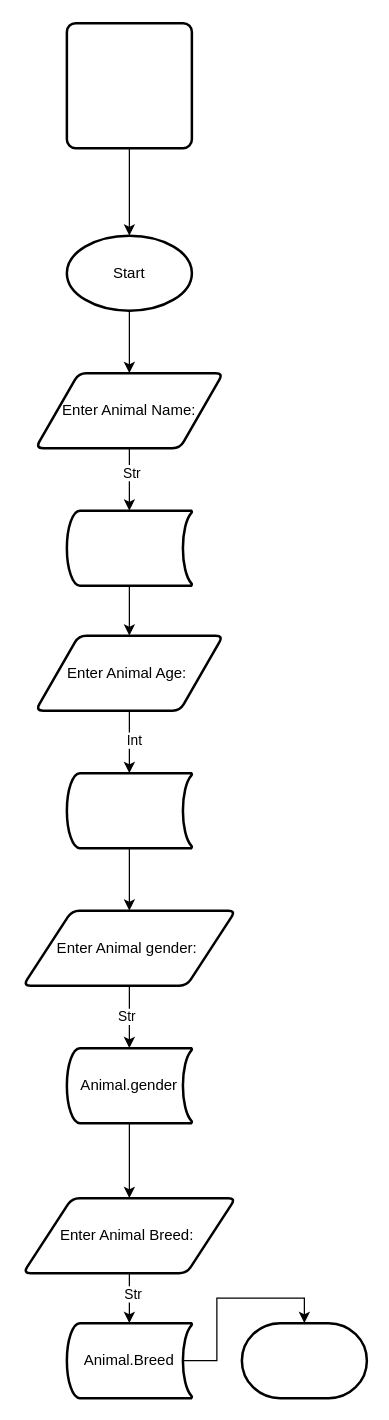
Image size: 389x1420. Some labels were removed from this diagram. The shapes that lost their labels are listed below. From the top down, each one's box as (x1, y1, x2, y2) in pixels, then its label:
(65, 21, 192, 149): Adding New Animal
(65, 509, 192, 586): Animal.name
(65, 771, 192, 849): Animal.age
(240, 1321, 368, 1399): END
